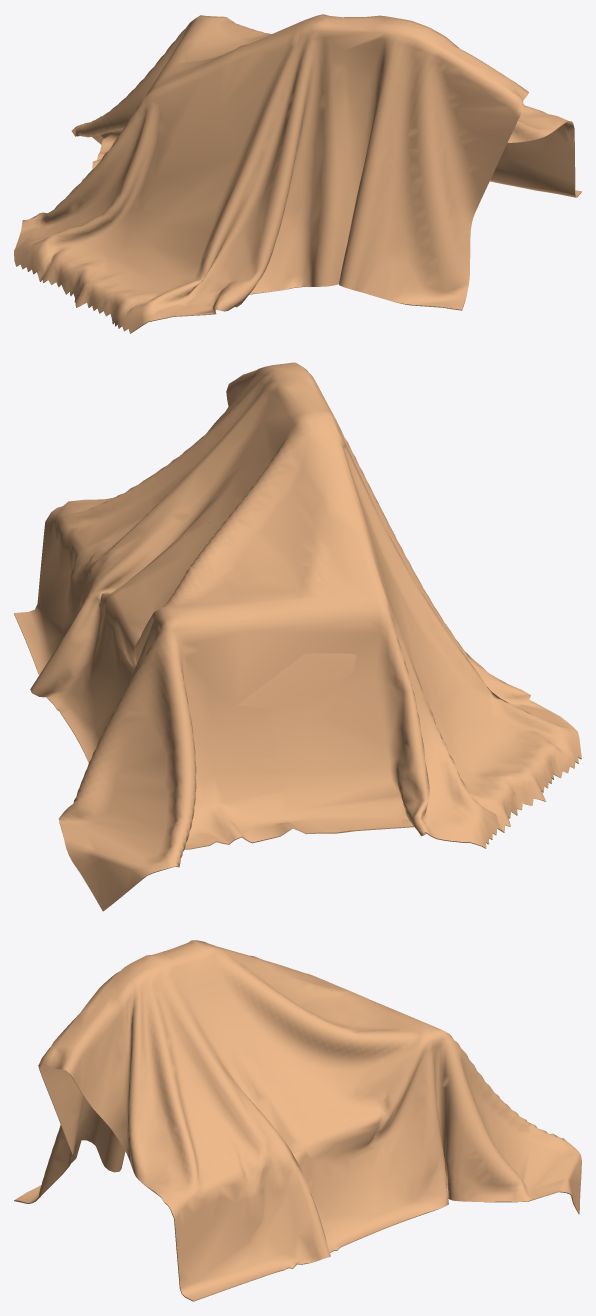
The model's file is накидка.FBX.
3 views of the same model, one above another, from view 1: azimuth 30°, elevation 25°; view 2: azimuth 150°, elevation 25°; view 3: azimuth 270°, elevation 25° (orthographic). The views are drawn at different scales.
Parts seen in each view (by area): view 1: Plane108; view 2: Plane108; view 3: Plane108.
Boxes of the visible parts, x1,y1,x2,y2 form: Plane108: [14, 14, 581, 333]; Plane108: [14, 362, 581, 911]; Plane108: [14, 940, 581, 1301].
Size of the model in its own units: 1783 by 995 by 1826.
